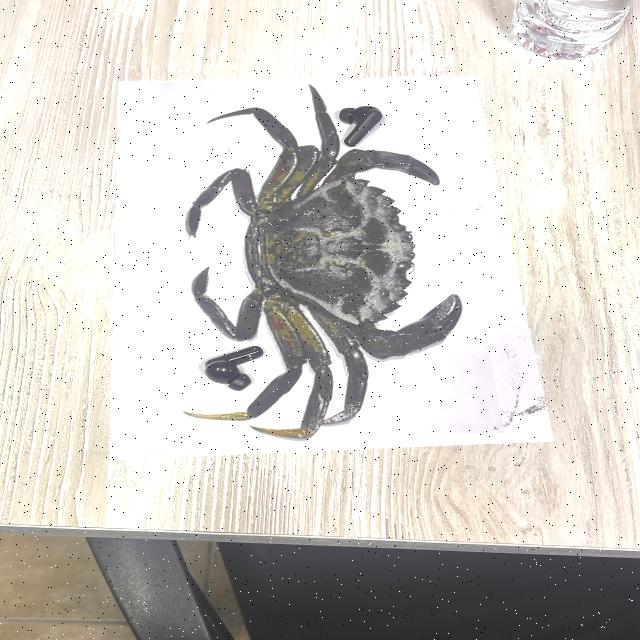European_Green_Crab: (181, 82, 466, 443)
